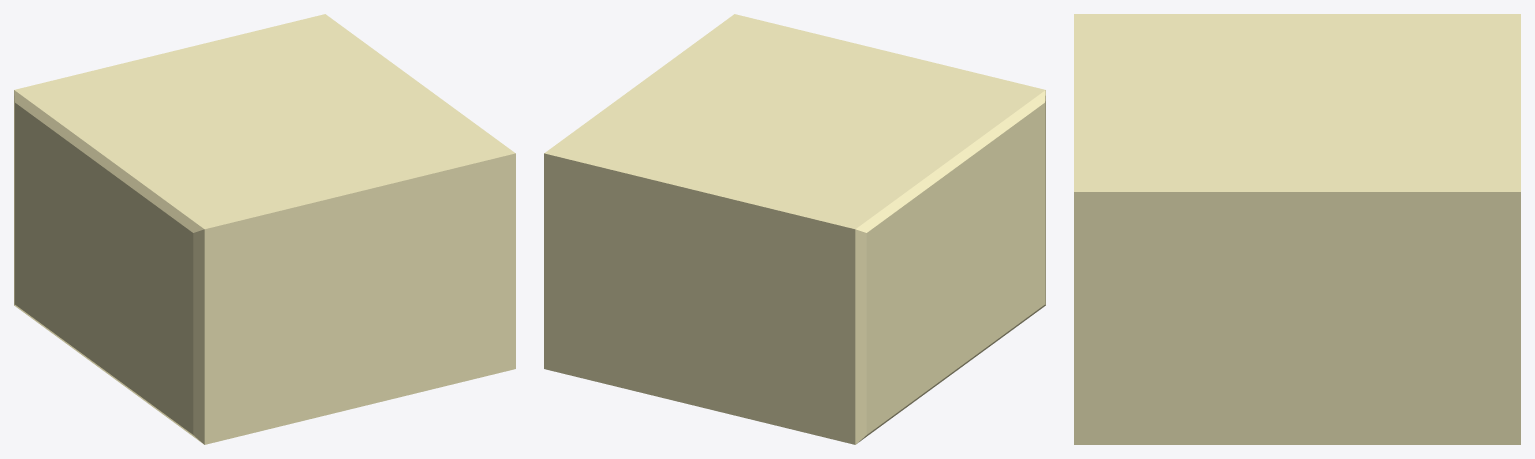
The model's file is Itr_Couch_Inside_Seat_Right_02.FBX.
3 renders of one model, left to right at view 1: azimuth 30°, elevation 25°; view 2: azimuth 150°, elevation 25°; view 3: azimuth 270°, elevation 25°, orthographic. The views are drawn at different scales.
Visible parts, largest first — view 1: Itr_Couch_Inside_Seat_Right_02; view 2: Itr_Couch_Inside_Seat_Right_02; view 3: Itr_Couch_Inside_Seat_Right_02.
Boxes of the visible parts, <box> form: Itr_Couch_Inside_Seat_Right_02: <box>14,14,515,444</box>; Itr_Couch_Inside_Seat_Right_02: <box>544,14,1045,444</box>; Itr_Couch_Inside_Seat_Right_02: <box>1074,14,1520,444</box>.
Bounding box in the file's own units: 18.88 × 12.29 × 19.68.
